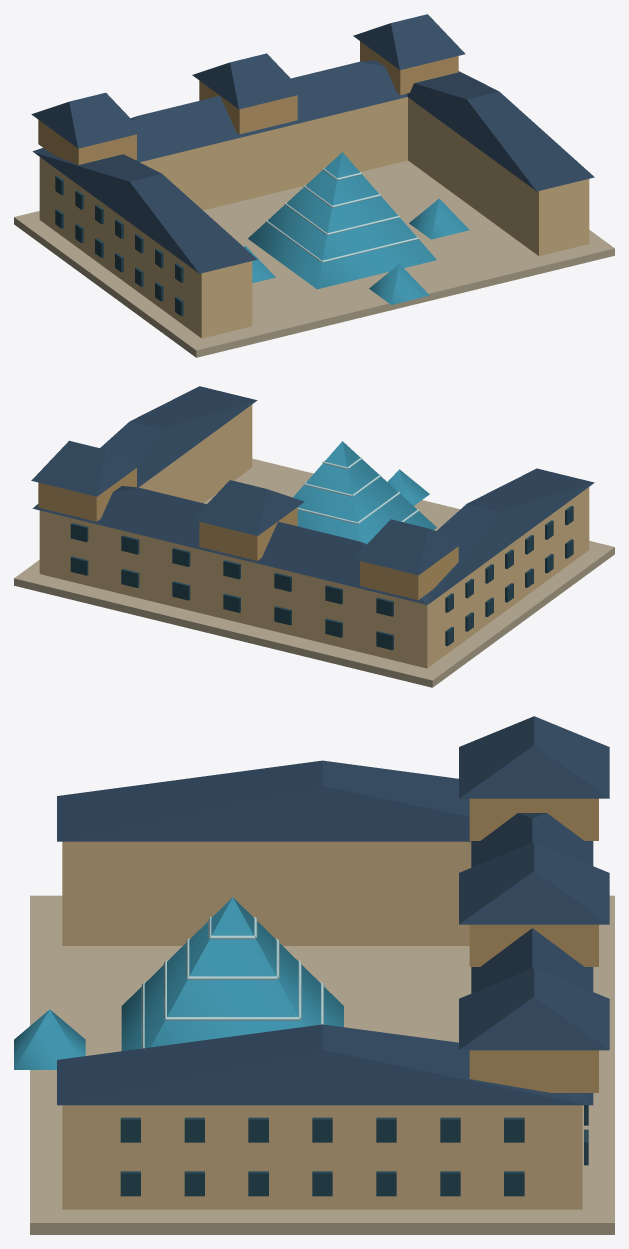
Rendered from louvre.glb.
3 renders of one model, top to bottom at view 1: azimuth 30°, elevation 25°; view 2: azimuth 150°, elevation 25°; view 3: azimuth 270°, elevation 25°, orthographic. The views are drawn at different scales.
Parts seen in each view (by area): view 1: roof_56646A, body_D8CBB3, base_B8B49D, pyramid_8FB1B7, body_D0C1A5, detail_6B6A5B, pyramid_CCDBD3; view 2: body_D8CBB3, roof_56646A, base_B8B49D, pyramid_8FB1B7, body_D0C1A5, detail_6B6A5B, pyramid_CCDBD3; view 3: roof_56646A, body_D8CBB3, base_B8B49D, pyramid_8FB1B7, body_D0C1A5, detail_6B6A5B, pyramid_CCDBD3.
Part boxes in pixels (x1=…): roof_56646A: x1=31, y1=14, x2=594, y2=273; body_D8CBB3: x1=39, y1=97, x2=589, y2=338; base_B8B49D: x1=14, y1=160, x2=614, y2=357; pyramid_8FB1B7: x1=244, y1=152, x2=469, y2=304; body_D0C1A5: x1=38, y1=41, x2=458, y2=164; detail_6B6A5B: x1=55, y1=175, x2=183, y2=316; pyramid_CCDBD3: x1=265, y1=168, x2=419, y2=262; body_D8CBB3: x1=39, y1=404, x2=589, y2=668; roof_56646A: x1=31, y1=386, x2=594, y2=604; base_B8B49D: x1=14, y1=458, x2=614, y2=687; pyramid_8FB1B7: x1=293, y1=441, x2=436, y2=543; body_D0C1A5: x1=38, y1=468, x2=458, y2=600; detail_6B6A5B: x1=70, y1=505, x2=573, y2=650; pyramid_CCDBD3: x1=297, y1=457, x2=419, y2=524; roof_56646A: x1=57, y1=716, x2=609, y2=1105; body_D8CBB3: x1=62, y1=841, x2=582, y2=1209; base_B8B49D: x1=30, y1=895, x2=614, y2=1234; pyramid_8FB1B7: x1=14, y1=897, x2=343, y2=1069; body_D0C1A5: x1=469, y1=798, x2=598, y2=1092; detail_6B6A5B: x1=120, y1=1105, x2=588, y2=1196; pyramid_CCDBD3: x1=141, y1=917, x2=323, y2=1048.
Bounding box in the file's own units: 1 × 0.3056 × 0.7755.
